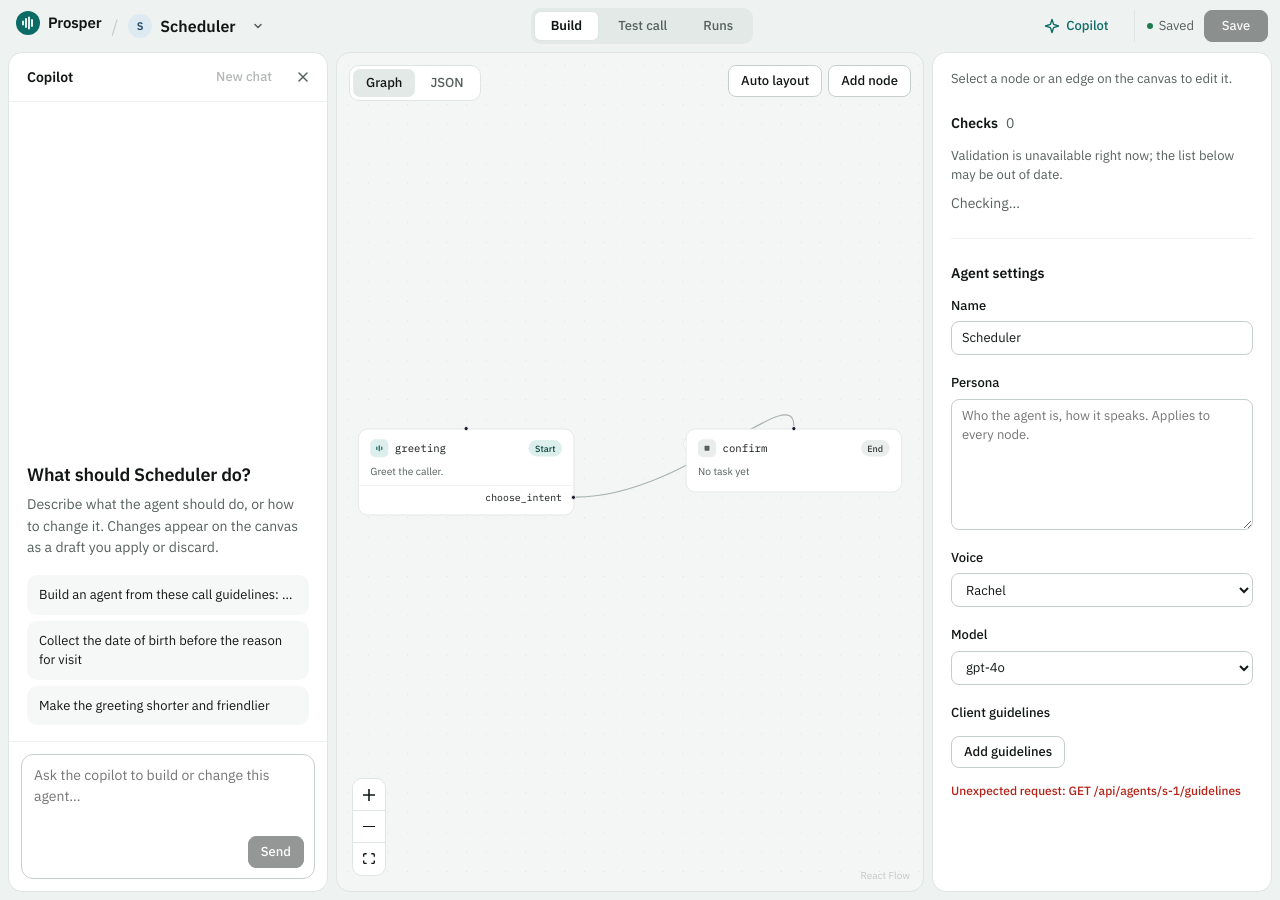
Test: Add node puts a new card on the canvas, selects it and marks the agent unsaved
Step 1. Click the button "Add node" → (870, 81), box [828,65,911,97]
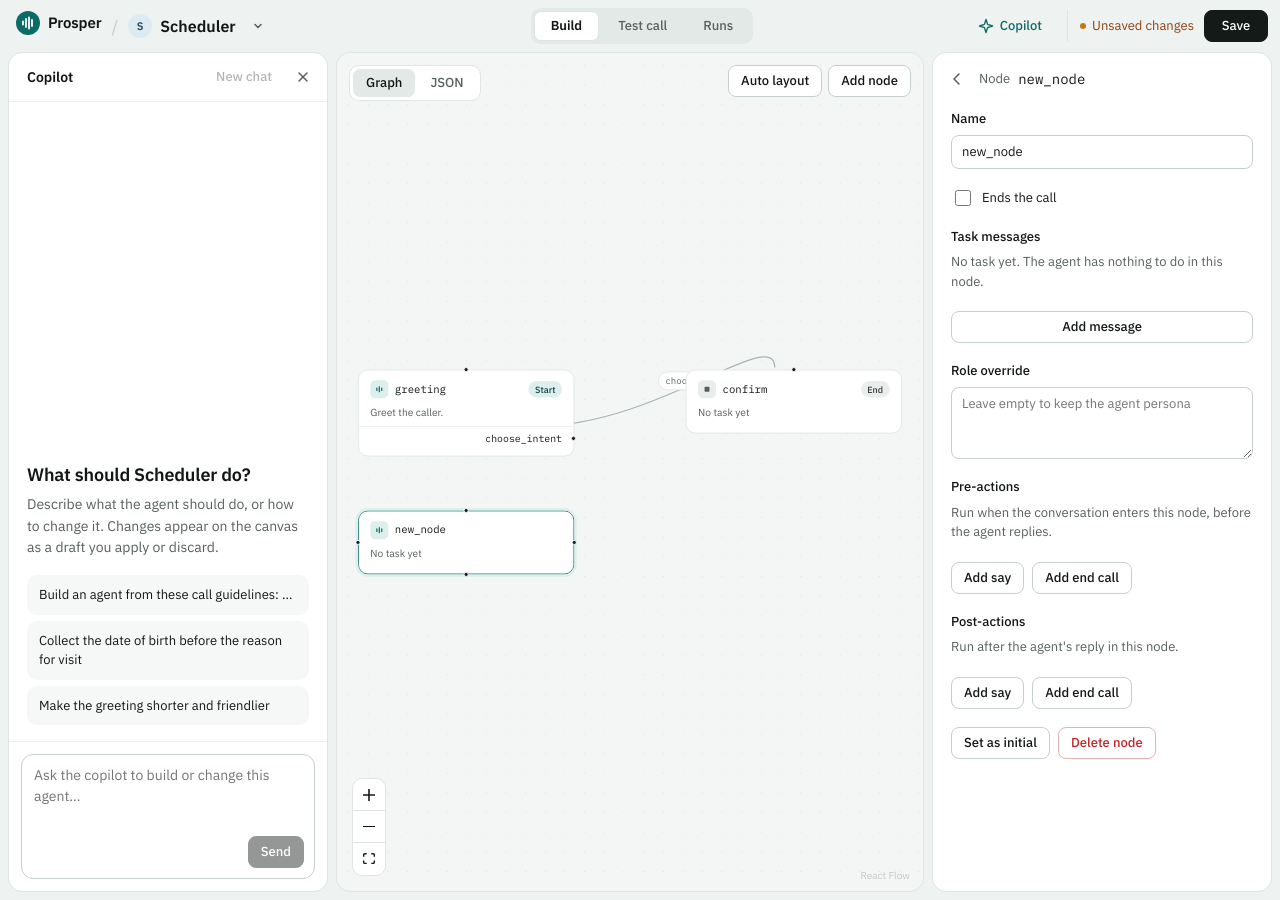
expect the text "new_node" is shown: met, box [395,523,446,537]
expect the field labelled "Name" holds "new_node": met, box [951,134,1253,168]
expect the text with test id "save-status" reads "Unsaved changes": met, box [1092,17,1194,34]
